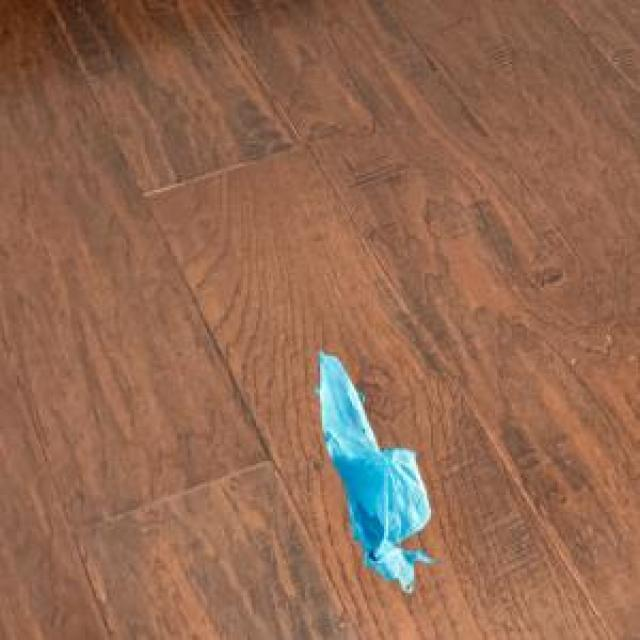waste: (321, 352, 431, 592)
